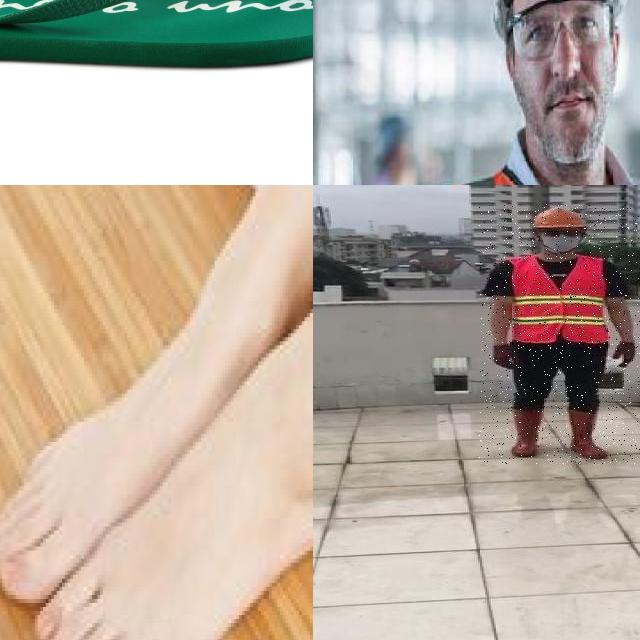Barefoots: (0, 393, 313, 640)
No_Ear-Protection: (503, 32, 518, 90), (611, 20, 622, 79)
Sandals: (0, 0, 313, 71)
boots: (568, 411, 614, 458), (512, 406, 544, 456)
face_nomask: (515, 32, 614, 170)
glasses: (507, 0, 613, 60)
head_helmet: (526, 203, 588, 230)
person: (479, 205, 640, 464)
vest: (510, 257, 608, 342)
